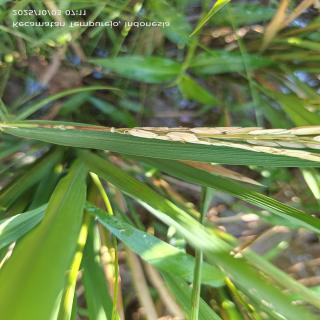Blast: (74, 126, 111, 132), (38, 124, 56, 128)
